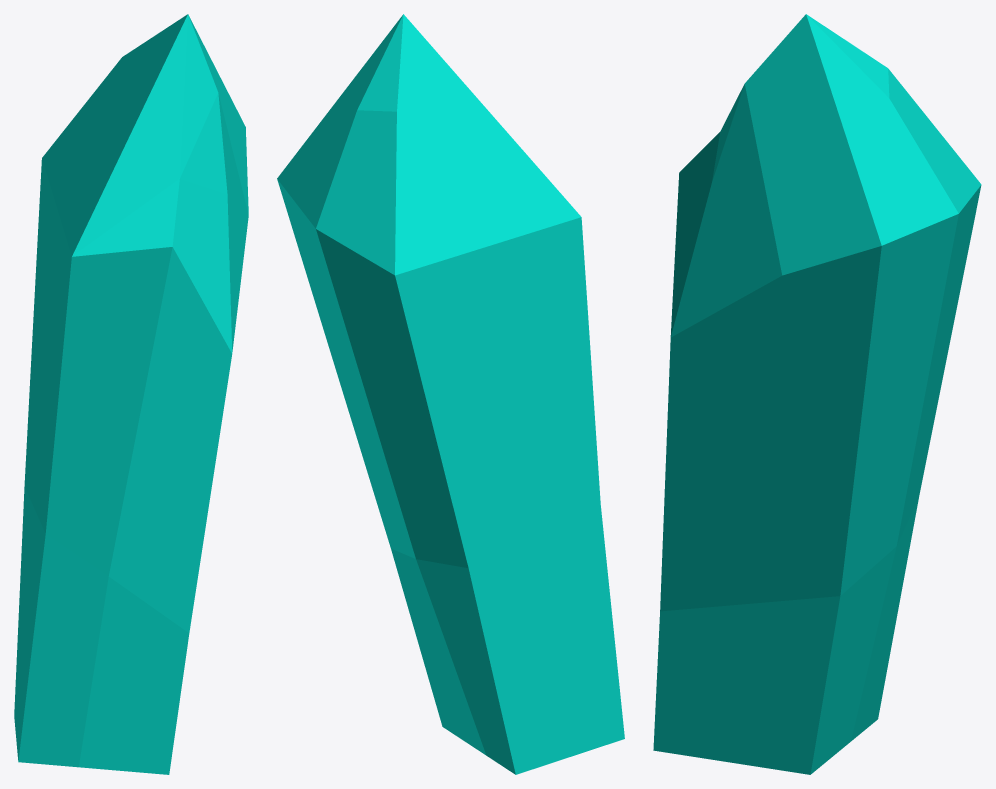
File: Gem03.fbx
The picture shows the model from 3 angles, left to right: view 1: azimuth 30°, elevation 25°; view 2: azimuth 150°, elevation 25°; view 3: azimuth 270°, elevation 25°; orthographic projection. The views are drawn at different scales.
Visible parts, largest first — view 1: GemStone03; view 2: GemStone03; view 3: GemStone03.
Part boxes in pixels (left/top/right/bottom): GemStone03: left=14, top=14, right=248, bottom=774; GemStone03: left=277, top=14, right=624, bottom=774; GemStone03: left=653, top=14, right=981, bottom=774.
Bounding box in the file's own units: 1.97 × 4.57 × 1.73.
